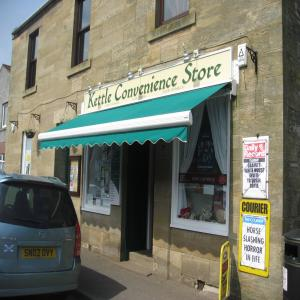Vehicle-registration-plate: (23, 248, 58, 261)
